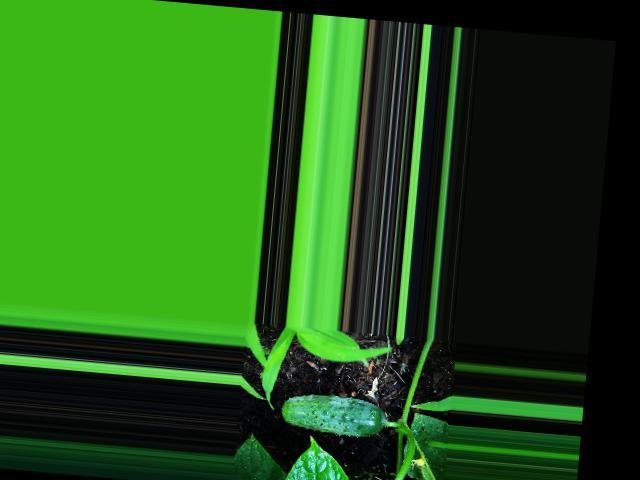cucumber: (278, 390, 387, 438)
